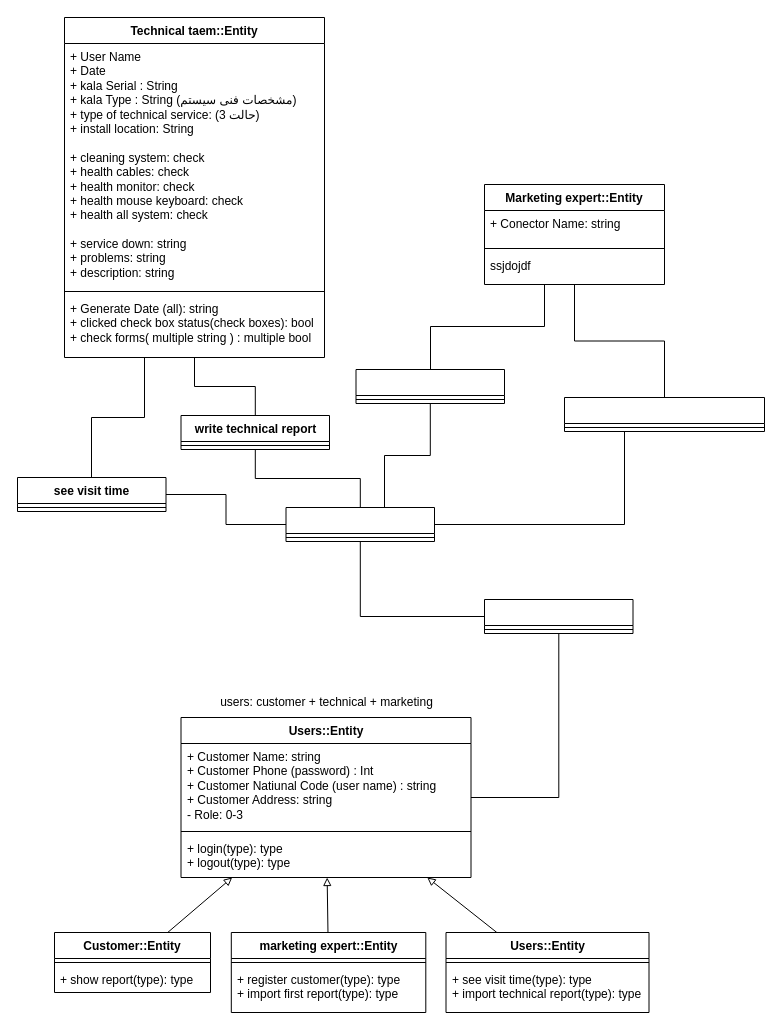
The diagram is 782 pixels wide and 1033 high, and some of its shapes have lost their labels. Here are the shapes that lost their labels. From the top down, the centre of each, then its label:
point 429,386: new user registration
point 664,414: Customer relationship report
point 359,524: website
point 558,616: see the report
